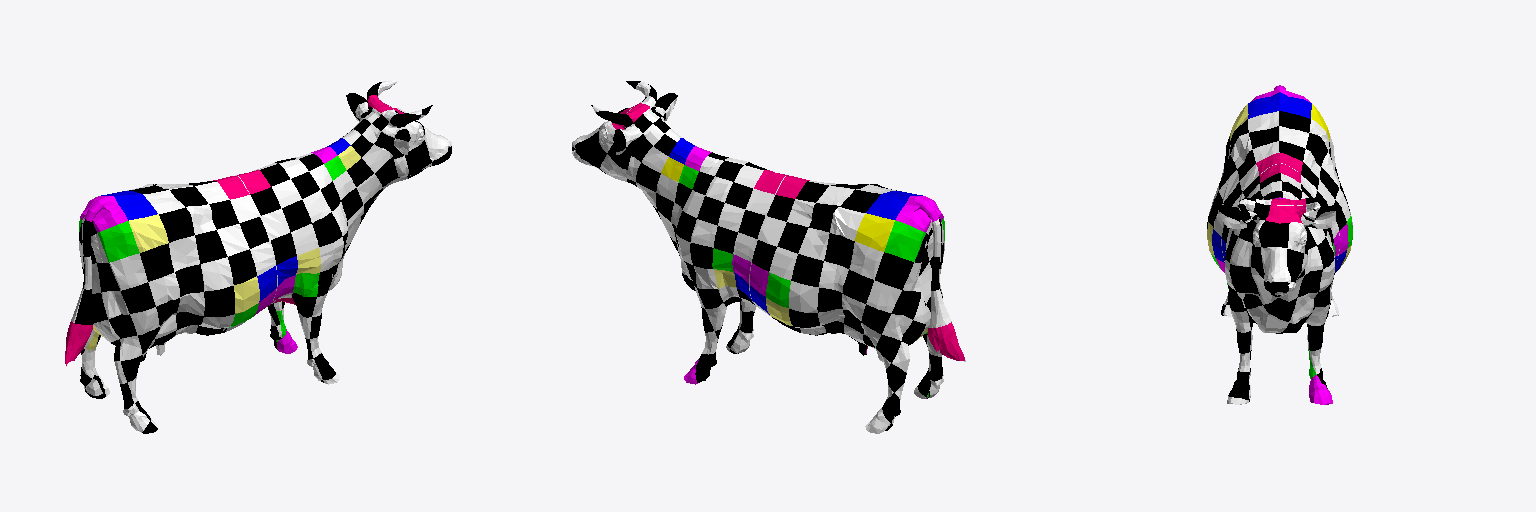
3 views of the same model, side by side, from view 1: azimuth 30°, elevation 25°; view 2: azimuth 150°, elevation 25°; view 3: azimuth 270°, elevation 25° (orthographic).
Size of the model in its own units: 6.47 by 3.97 by 2.11.
Materials: 1 (1 with a texture image).